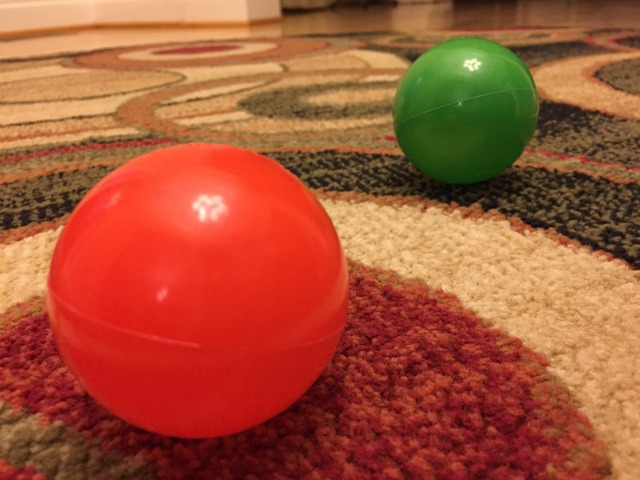Ball: (393, 38, 537, 181)
